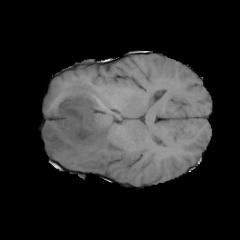glioma: (43, 82, 126, 172)
